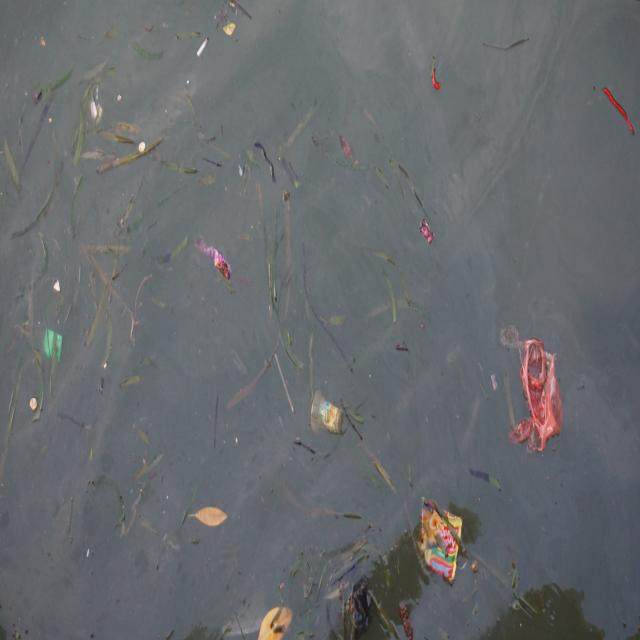Bungkus Makanan: (414, 491, 466, 587), (39, 321, 67, 370)
Bungkus Minuman: (305, 386, 347, 440)
Kantong Plastik: (509, 331, 567, 462)
